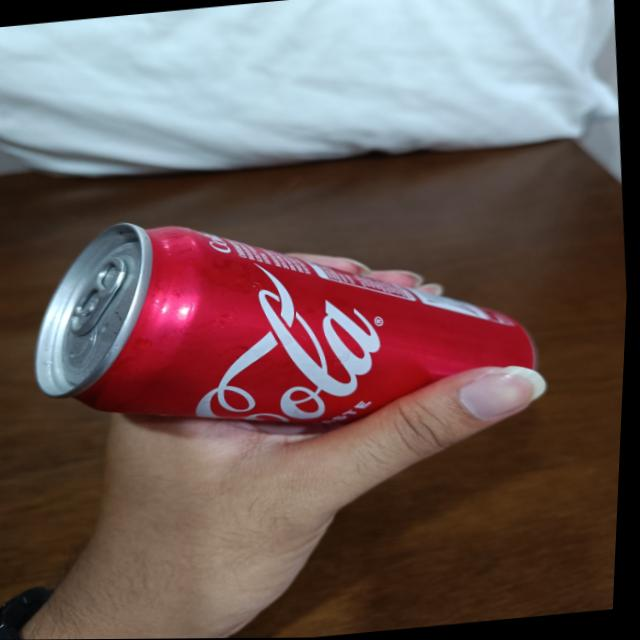coke: (18, 179, 552, 456)
